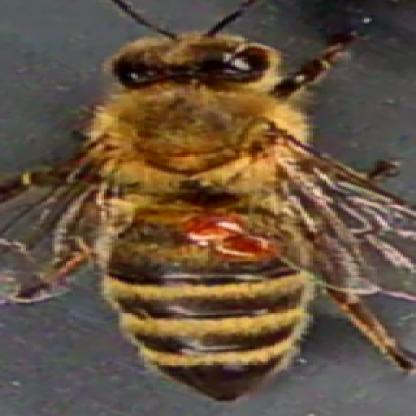bee: (108, 28, 331, 386)
vaoora: (224, 236, 272, 258), (189, 215, 234, 235)
